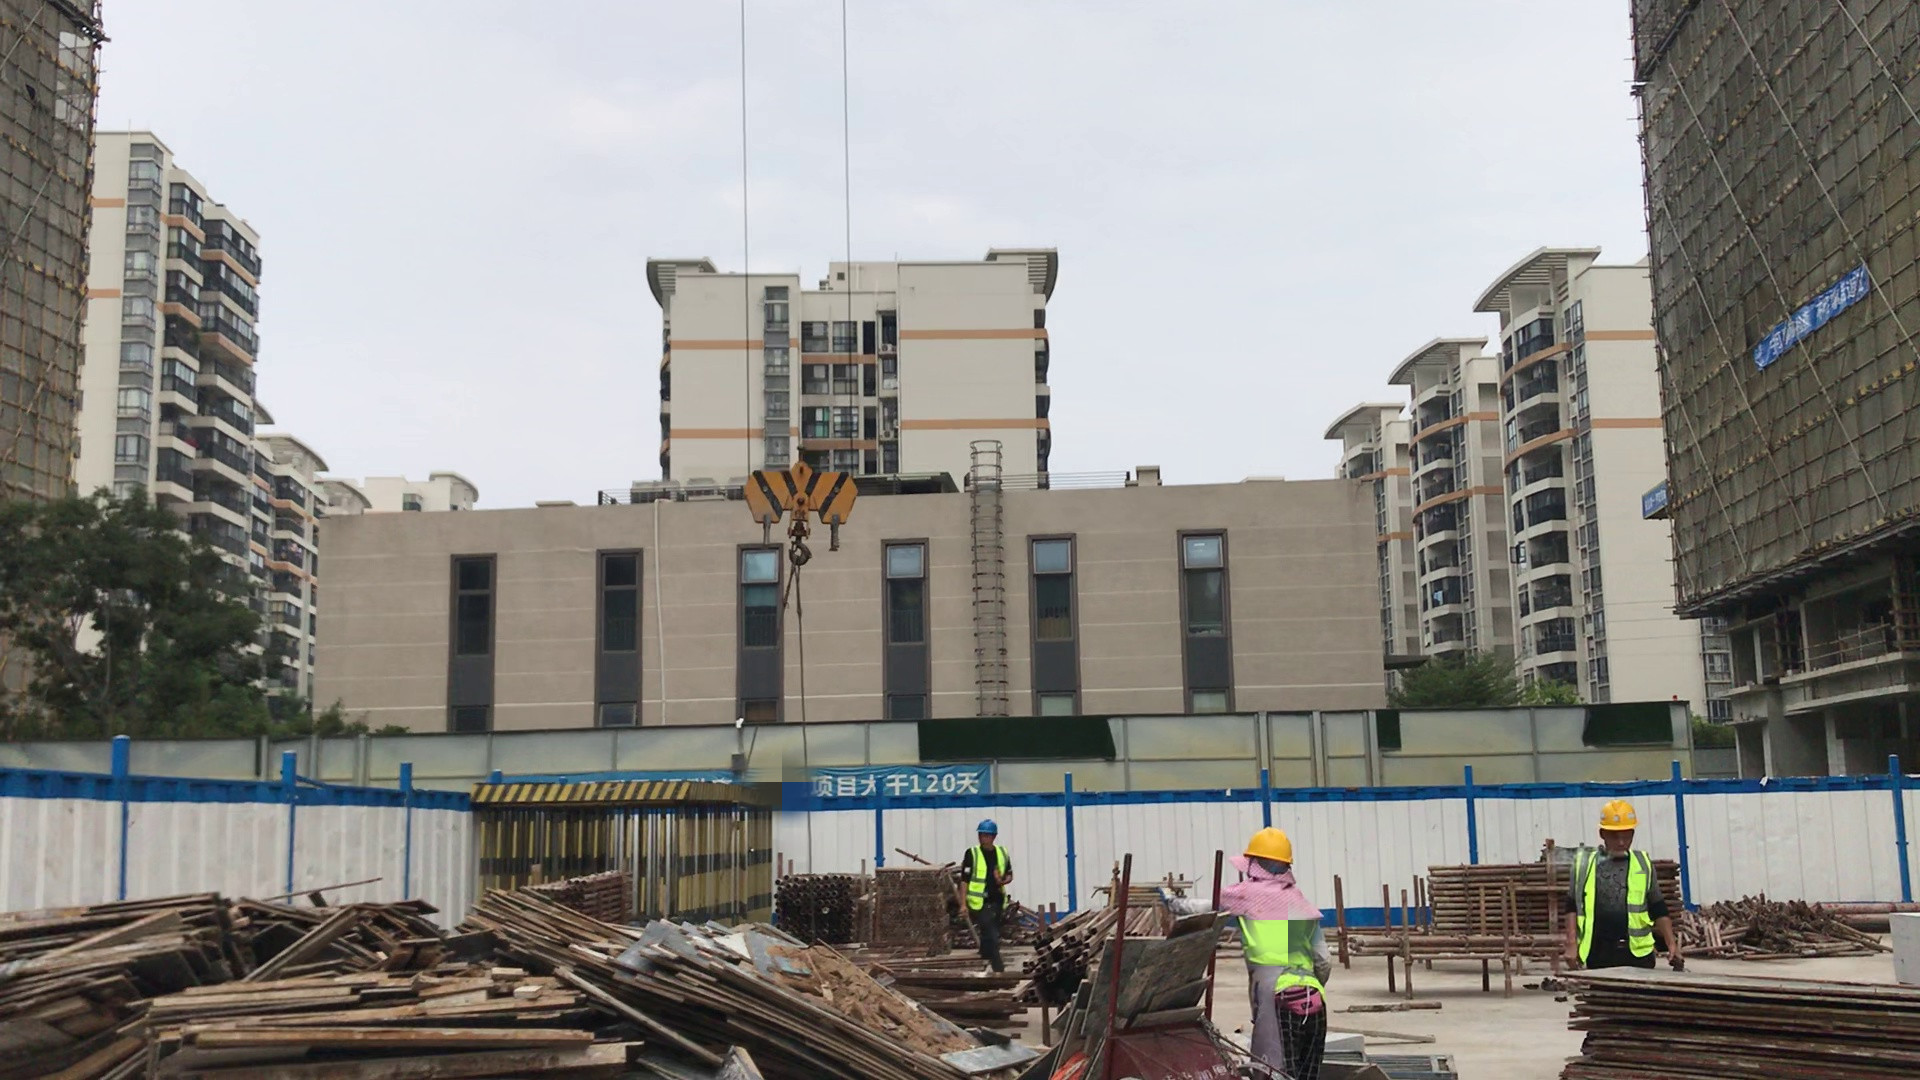board: (141, 954, 666, 1080), (2, 885, 259, 1080), (644, 922, 947, 1080), (1567, 956, 1920, 1079)
helmet: (1235, 828, 1306, 876), (1598, 800, 1653, 840), (977, 813, 1000, 836)
hook: (731, 450, 871, 571)
person: (1190, 816, 1351, 1080), (1565, 789, 1685, 968), (954, 813, 1018, 973)
scaffold: (1421, 853, 1571, 935), (1028, 912, 1160, 987), (769, 871, 878, 925), (537, 871, 630, 926)
slogan: (1722, 261, 1900, 378), (803, 758, 1001, 813), (1628, 468, 1680, 535)
vest: (1572, 843, 1669, 969), (1228, 894, 1335, 1007), (963, 839, 1014, 920)
